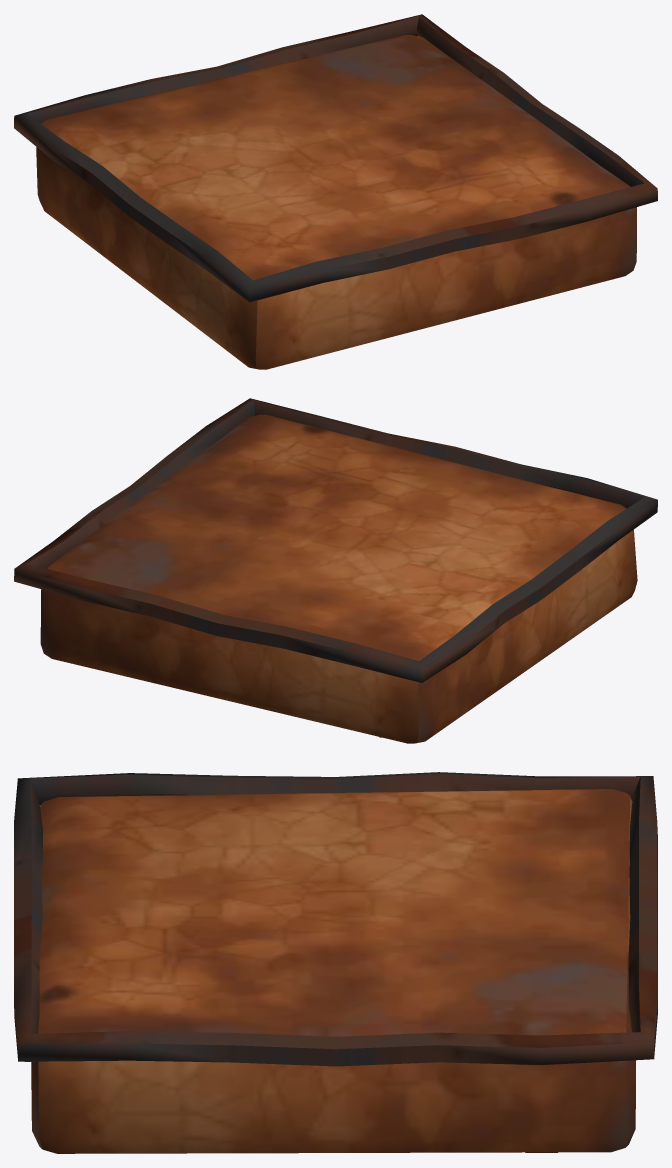
The model's file is Mod_Iron_Plate.glb.
3 renders of one model, top to bottom at view 1: azimuth 30°, elevation 25°; view 2: azimuth 150°, elevation 25°; view 3: azimuth 270°, elevation 25°, orthographic. The views are drawn at different scales.
Parts seen in each view (by area): view 1: Mod_Iron_Plate; view 2: Mod_Iron_Plate; view 3: Mod_Iron_Plate.
Part boxes in pixels (box(x1,y1,x2,y2)): Mod_Iron_Plate: box(14, 14, 657, 369); Mod_Iron_Plate: box(14, 398, 657, 743); Mod_Iron_Plate: box(14, 772, 657, 1153).
Size of the model in its own units: 0.1814 by 0.0493 by 0.1814.
Materials: 2 (2 with a texture image).
